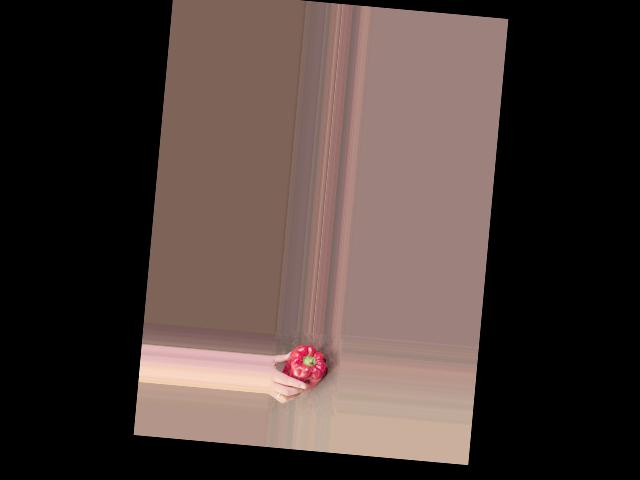bell_pepper: (283, 342, 328, 389)
